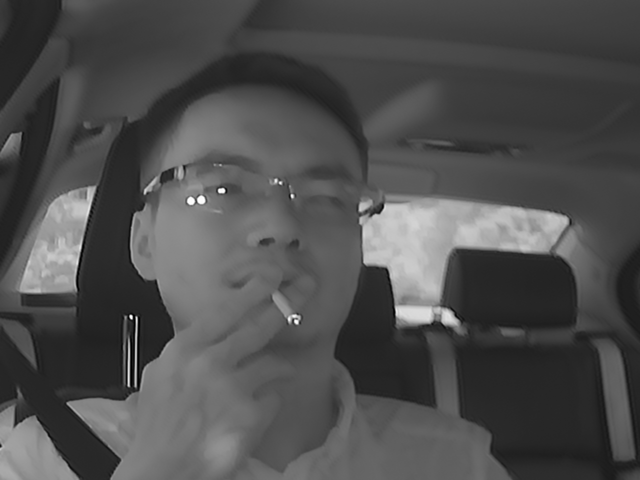hand: (184, 265, 321, 434)
